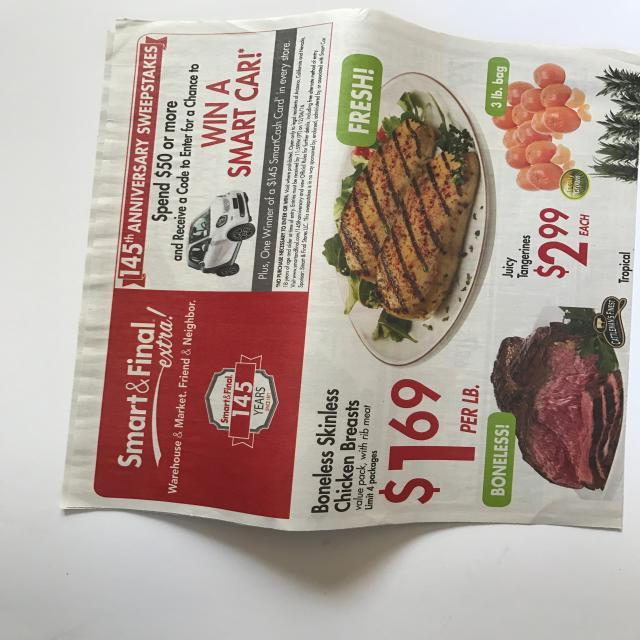paper: (59, 12, 640, 532)
